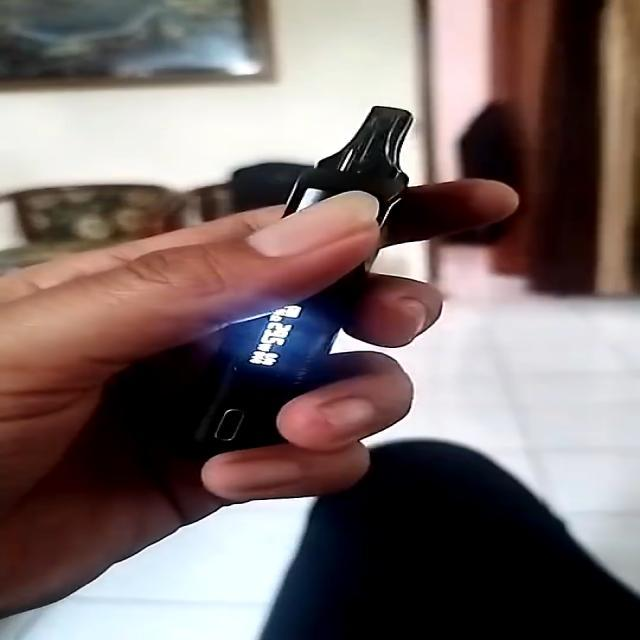Hazard: (166, 106, 415, 488)
